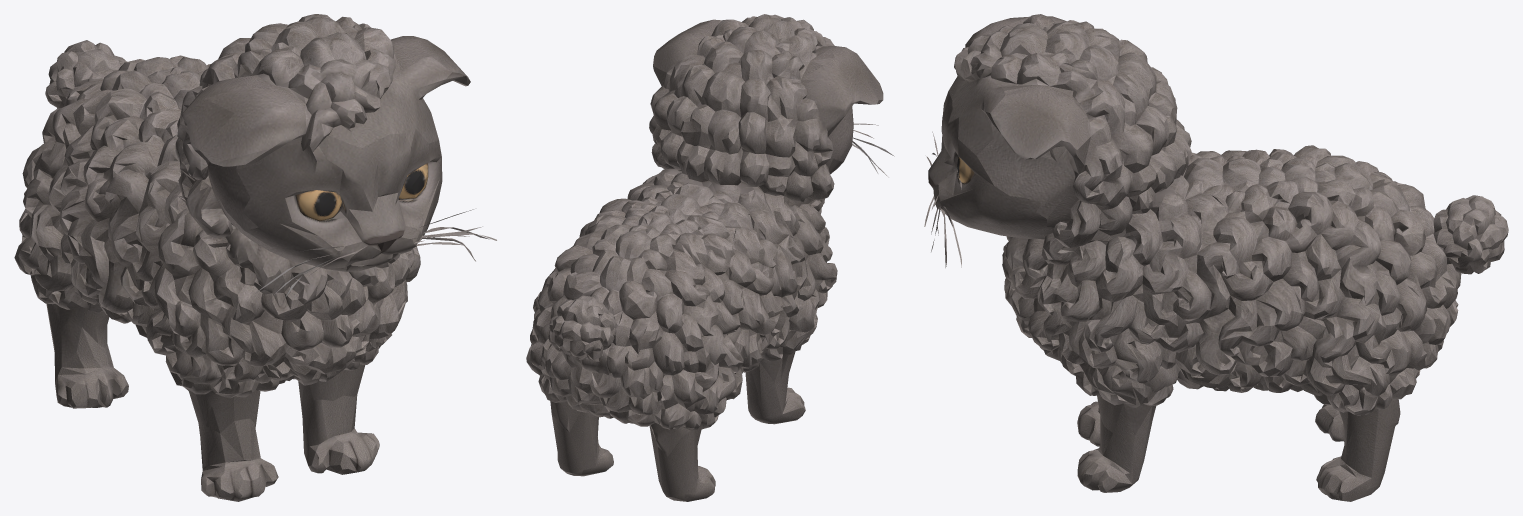
3 views of the same model, side by side, from view 1: azimuth 30°, elevation 25°; view 2: azimuth 150°, elevation 25°; view 3: azimuth 270°, elevation 25° (orthographic). The views are drawn at different scales.
Parts seen in each view (by area): view 1: Mesh_0; view 2: Mesh_0; view 3: Mesh_0.
Part boxes in pixels (left/top/right/bottom): Mesh_0: left=14, top=14, right=496, bottom=501; Mesh_0: left=526, top=14, right=894, bottom=501; Mesh_0: left=924, top=14, right=1508, bottom=501.
Size of the model in its own units: 0.9433 by 1.55 by 1.9.
1 material, 1 textured.
